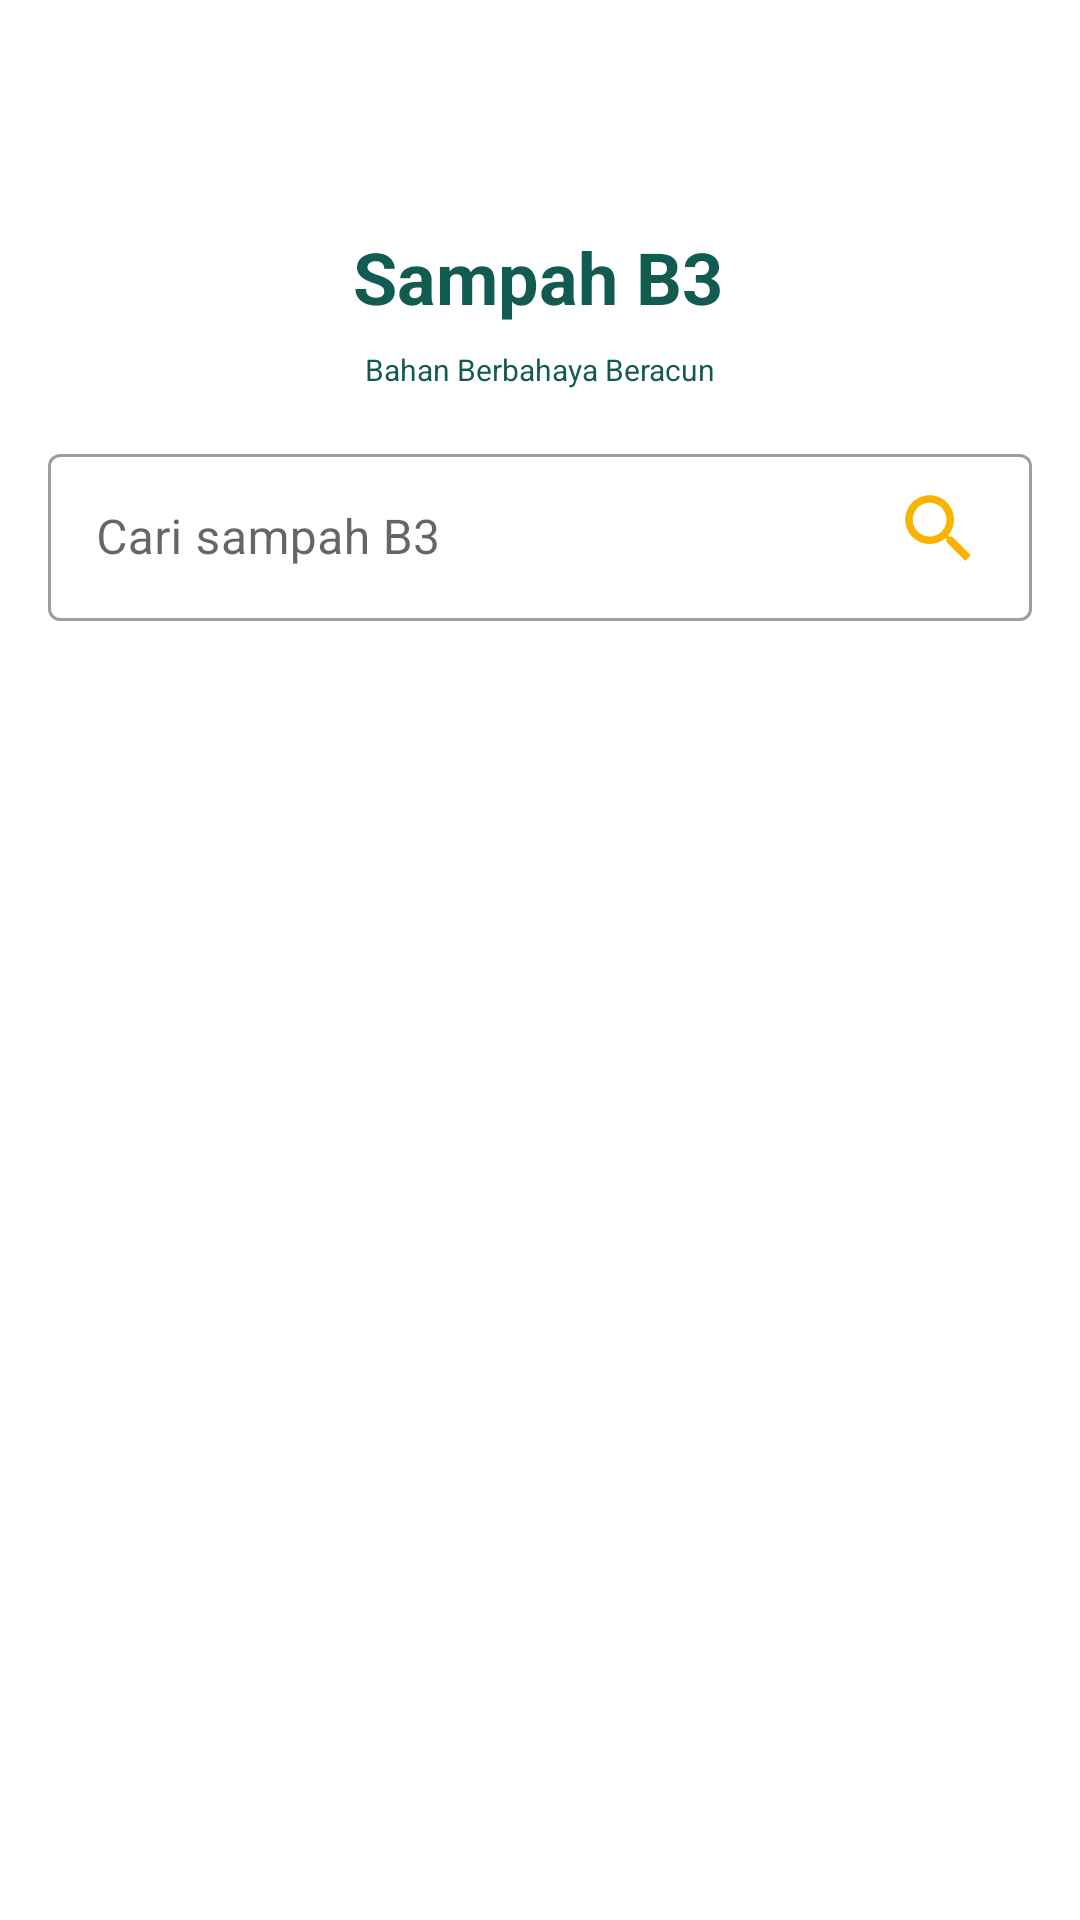

Icons on this 1080x1920 Android screen, each with the point to tap as point (x, y):
search: point (938, 528)
